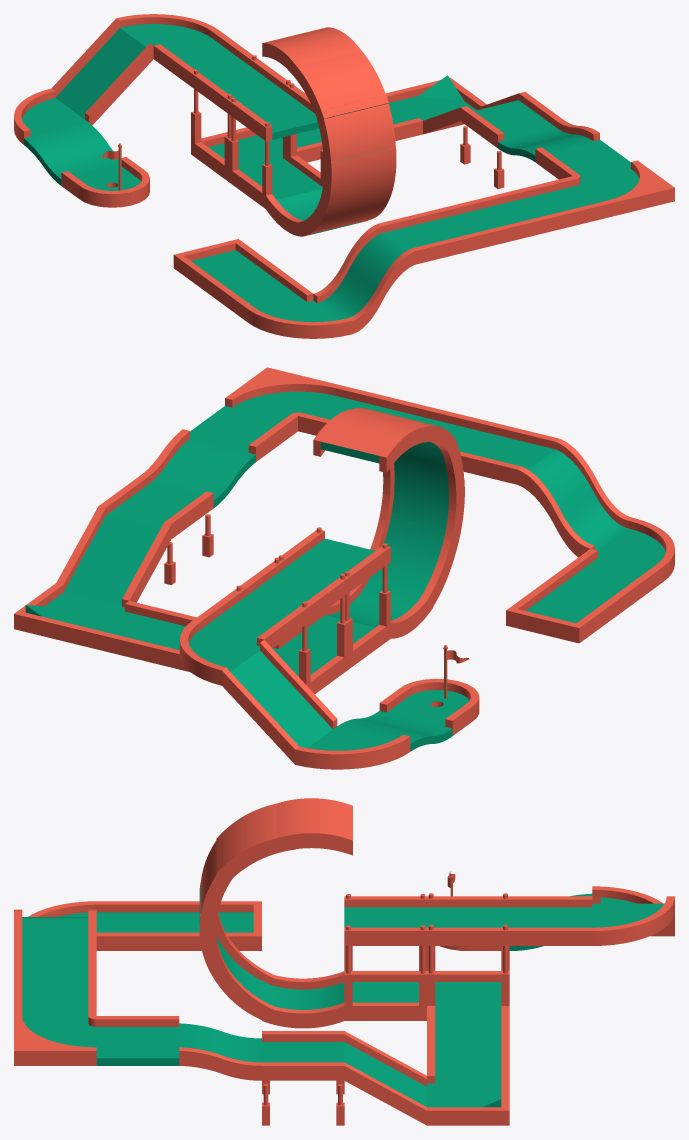
The model's file is Level7.fbx.
3 renders of one model, top to bottom at view 1: azimuth 30°, elevation 25°; view 2: azimuth 150°, elevation 25°; view 3: azimuth 270°, elevation 25°, orthographic. The views are drawn at different scales.
Visible parts, largest first — view 1: straight (×11), valley (×6), bend_open (×3), slope_straightD, slope_smoothD, slope_center_smoothA, end, bend_full, end_roundHole, detail_supports (×3), side, corner_hill (+3 smaller); view 2: straight (×10), valley (×6), bend_open (×3), slope_straightC, slope_straightD, slope_smoothD, slope_side_smoothA, end, corner_hill, bend_full, end_roundHole, side (+3 smaller); view 3: straight (×11), valley (×6), bend_open (×3), side, slope_straightC, bend_full, corner_hill, slope_side_smoothA, detail_supports (×3), end, corner.
Boxes of the visible parts, bbox=[...] form: straight (×11): bbox=[153, 30, 610, 322]; valley (×6): bbox=[262, 27, 396, 236]; bend_open (×3): bbox=[14, 14, 350, 338]; slope_straightD: bbox=[51, 18, 153, 125]; slope_smoothD: bbox=[313, 223, 415, 334]; slope_center_smoothA: bbox=[24, 122, 118, 185]; end: bbox=[173, 239, 275, 295]; bend_full: bbox=[573, 160, 674, 216]; end_roundHole: bbox=[61, 157, 149, 207]; detail_supports (×3): bbox=[191, 55, 504, 208]; side: bbox=[535, 140, 630, 180]; corner_hill: bbox=[386, 75, 486, 120]; straight (×10): bbox=[87, 385, 663, 665]; valley (×6): bbox=[313, 408, 464, 638]; bend_open (×3): bbox=[179, 518, 674, 769]; slope_straightC: bbox=[56, 506, 171, 607]; slope_straightD: bbox=[222, 640, 337, 764]; slope_smoothD: bbox=[517, 438, 632, 557]; slope_side_smoothA: bbox=[141, 429, 255, 507]; end: bbox=[506, 579, 621, 643]; corner_hill: bbox=[14, 583, 124, 646]; bend_full: bbox=[225, 367, 339, 419]; end_roundHole: bbox=[379, 678, 479, 735]; side: bbox=[190, 406, 297, 461]; straight (×11): bbox=[14, 896, 592, 1083]; valley (×6): bbox=[199, 798, 352, 1028]; bend_open (×3): bbox=[28, 886, 674, 945]; side: bbox=[96, 1016, 179, 1065]; slope_straightC: bbox=[344, 1031, 426, 1125]; bend_full: bbox=[14, 1016, 96, 1065]; corner_hill: bbox=[427, 1076, 509, 1125]; slope_side_smoothA: bbox=[179, 1023, 261, 1080]; detail_supports (×3): bbox=[262, 893, 509, 1125]; end: bbox=[179, 901, 261, 950]; corner: bbox=[435, 971, 501, 1013].
Size of the model in its own units: 60 by 26.08 by 80.
